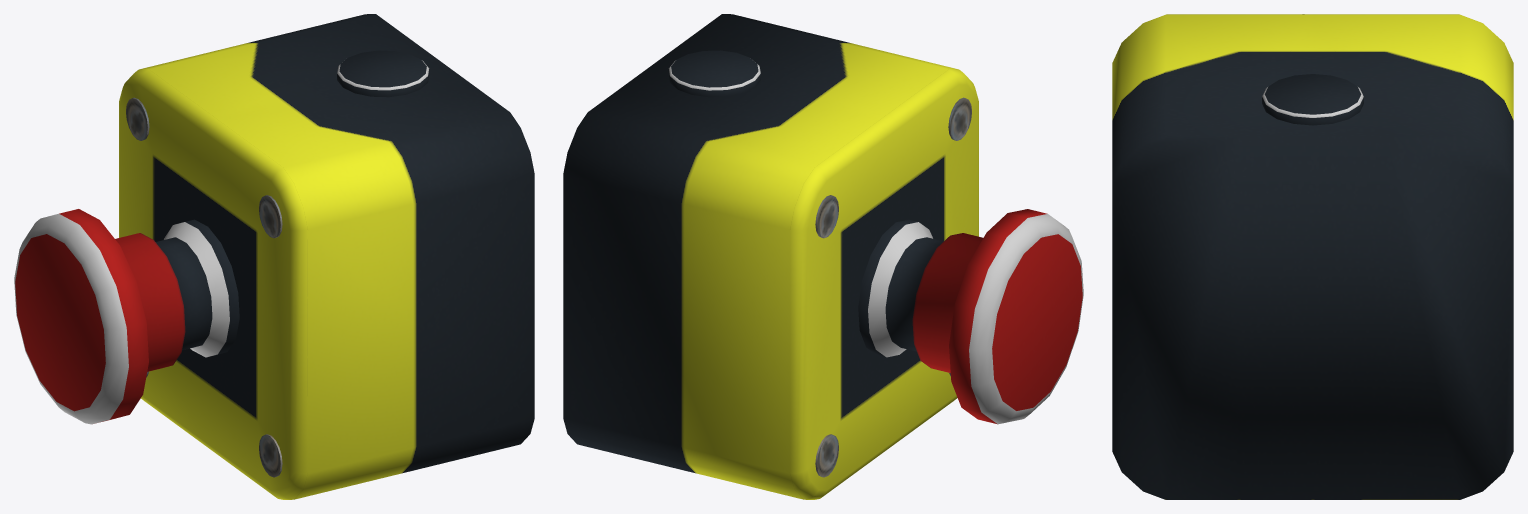
Rendered from SM_GencyButton.fbx.
3 views of the same model, side by side, from view 1: azimuth 30°, elevation 25°; view 2: azimuth 150°, elevation 25°; view 3: azimuth 270°, elevation 25° (orthographic). The views are drawn at different scales.
Visible parts, largest first — view 1: SM_GencyButton_LOD0; view 2: SM_GencyButton_LOD0; view 3: SM_GencyButton_LOD0.
Boxes of the visible parts, x1,y1,x2,y2 form: SM_GencyButton_LOD0: (14,14,534,499); SM_GencyButton_LOD0: (563,14,1083,499); SM_GencyButton_LOD0: (1112,14,1513,499).
Bounding box in the file's own units: 24.11 × 20 × 20.53.
3 materials, 2 textured.
